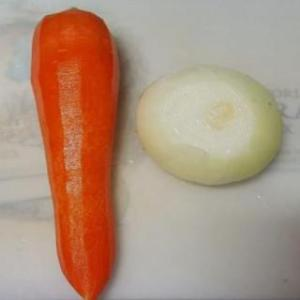carrot: (23, 6, 131, 298)
onion: (134, 60, 286, 192)
